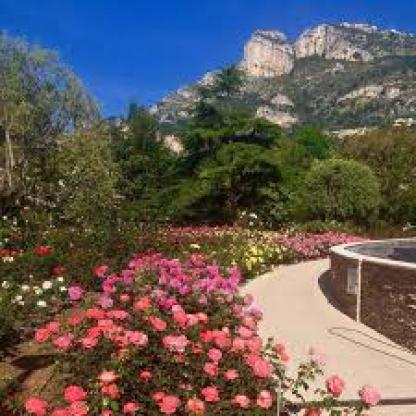Rose-Mawar: (25, 251, 256, 415), (263, 328, 382, 415)
